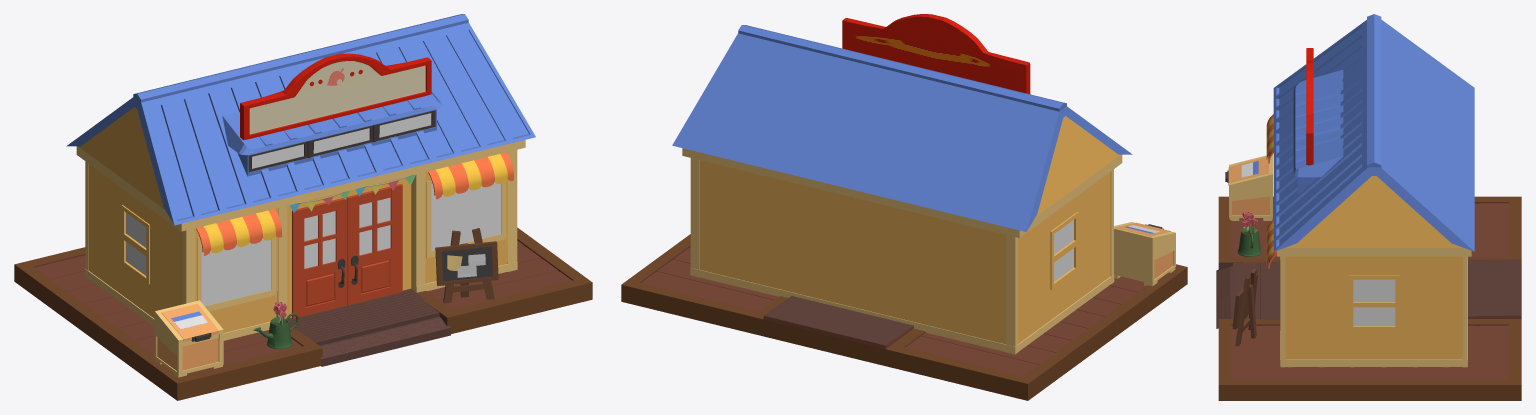
File: petshop.fbx
3 renders of one model, left to right at view 1: azimuth 30°, elevation 25°; view 2: azimuth 150°, elevation 25°; view 3: azimuth 270°, elevation 25°, orthographic. The views are drawn at different scales.
Visible parts, largest first — view 1: Cube.001, Cube, Plane, Cube.002, Plane.001, Cube.007, Cube.003, Plane.003, Cube.012, Cube.009, Cube.013, Cube.005 (+2 smaller); view 2: Cube, Cube.001, Plane, Plane.001, Cube.009, Cube.012; view 3: Cube, Cube.001, Plane, Cube.007, Plane.003, Cube.012, Cube.009, Cube.013, Plane.001, Cylinder.001, Cube.006, Cube.005.
Part boxes in pixels (left/top/right/bottom): Cube.001: left=66, top=22, right=535, bottom=225; Cube: left=76, top=107, right=525, bottom=340; Plane: left=14, top=227, right=592, bottom=400; Cube.002: left=292, top=184, right=402, bottom=318; Plane.001: left=240, top=53, right=431, bottom=139; Cube.007: left=222, top=92, right=443, bottom=176; Cube.003: left=198, top=180, right=501, bottom=305; Plane.003: left=288, top=288, right=450, bottom=366; Cube.012: left=154, top=300, right=223, bottom=377; Cube.009: left=133, top=14, right=468, bottom=102; Cube.013: left=435, top=228, right=498, bottom=303; Cube.005: left=196, top=209, right=282, bottom=255; Cube: left=682, top=116, right=1122, bottom=354; Cube.001: left=672, top=33, right=1132, bottom=231; Plane: left=621, top=234, right=1187, bottom=400; Plane.001: left=842, top=14, right=1030, bottom=94; Cube.009: left=738, top=25, right=1066, bottom=111; Cube.012: left=1114, top=222, right=1175, bottom=286; Cube: left=1277, top=176, right=1471, bottom=367; Cube.001: left=1273, top=19, right=1474, bottom=251; Plane: left=1218, top=196, right=1521, bottom=400; Cube.007: left=1293, top=70, right=1343, bottom=194; Plane.003: left=1216, top=261, right=1280, bottom=328; Cube.012: left=1225, top=154, right=1272, bottom=220; Cube.009: left=1367, top=14, right=1381, bottom=167; Cube.013: left=1232, top=268, right=1257, bottom=346; Plane.001: left=1306, top=48, right=1313, bottom=165; Cylinder.001: left=1237, top=211, right=1261, bottom=256; Cube.006: left=1266, top=219, right=1276, bottom=268; Cube.005: left=1266, top=114, right=1273, bottom=163.
Size of the model in its own units: 462 by 274 by 317.
